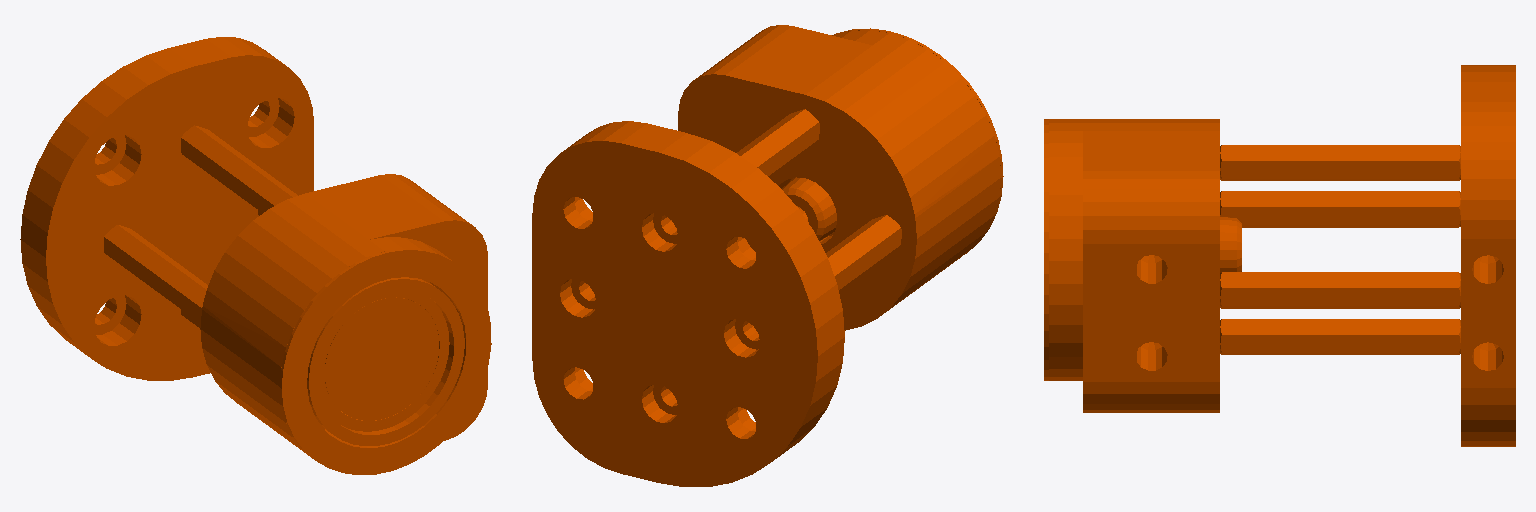
URDF robot description (panda):
<?xml version="1.0" encoding="utf-8"?>
<!-- =================================================================================== -->
<!-- |    This document was autogenerated by xacro from panda_arm.urdf.xacro           | -->
<!-- |    EDITING THIS FILE BY HAND IS NOT RECOMMENDED                                 | -->
<!-- =================================================================================== -->
<robot name="panda">
  <link name="world"/>
  <link name="base_link"/>
  <material name="light_gray">
    <color rgba="0.7 0.7 0.7 1"/>
  </material>
  <material name="red">
    <color rgba="1.0 0.1 0.1 1"/>
  </material>
  <link name="workcell_base">
    <visual>
      <geometry>
        <mesh filename="package://pick_and_place_support/meshes/workcell.STL"/>
      </geometry>
      <material name="light_gray"/>
    </visual>
    <collision name="workcell_table">
      <geometry>
        <box size="0.8 1.25 0.77153"/>
      </geometry>
      <origin xyz="0.0 0.3 -0.385765"/>
    </collision>
    <collision name="workcell_columnSW">
      <geometry>
        <box size="0.1 0.1 1.25"/>
      </geometry>
      <origin xyz="-.3302 -.2794 0.6"/>
    </collision>
    <collision name="workcell_columnsSE">
      <geometry>
        <box size="0.1 0.1 1.25"/>
      </geometry>
      <origin xyz=".3302 -.2794 0.6"/>
    </collision>
    <collision name="workcell_columnNW">
      <geometry>
        <box size="0.1 0.1 1.25"/>
      </geometry>
      <origin xyz="-.3302 0.8382 0.6"/>
      colors
    
    </collision>
    <collision name="workcell_columnNE">
      <geometry>
        <box size="0.1 0.1 1.25"/>
      </geometry>
      <origin xyz=".3302 0.8382 0.6"/>
    </collision>
    <collision name="workcell_top">
      <geometry>
        <box size="0.95 1.4 0.2"/>
      </geometry>
      <origin xyz="0.0 0.3 1.2"/>
    </collision>
  </link>
  <joint name="workcell_joint" type="fixed">
    <origin rpy="0 0 0" xyz="0.0 0.0 0.77153"/>
    <parent link="world"/>
    <child link="workcell_base"/>
  </joint>
  <link name="cabinet_1">
    <collision name="cabinet_1_back">
      <geometry>
        <box size="0.5969 0.0254 0.762"/>
      </geometry>
      <origin xyz=".2985 -.0127 -0.381"/>
    </collision>
    <collision name="cabinet_1_sideL">
      <geometry>
        <box size="0.0254 0.3048 0.762"/>
      </geometry>
      <origin xyz="0.0127 -0.1524 -0.381"/>
    </collision>
    <collision name="cabinet_1_sideR">
      <geometry>
        <box size="0.0254 0.3048 0.762"/>
      </geometry>
      <origin xyz="0.5969 -0.1524 -0.381"/>
    </collision>
    <collision name="cabinet_1_cabinet1">
      <geometry>
        <box size="0.5969 0.3048 0.0254"/>
      </geometry>
      <origin xyz=".2985 -0.1524  -0.7493"/>
    </collision>
    <collision name="cabinet_1_cabinet2">
      <geometry>
        <box size="0.5969 0.3048 0.0254"/>
      </geometry>
      <origin xyz=".2985 -0.1524  -0.508"/>
    </collision>
    <collision name="cabinet_1_cabinet3">
      <geometry>
        <box size="0.5969 0.3048 0.0254"/>
      </geometry>
      <origin xyz=".2985 -0.1524  -0.254"/>
    </collision>
    <collision name="cabinet_1_cabinet4">
      <geometry>
        <box size="0.5969 0.3048 0.0254"/>
      </geometry>
      <origin xyz=".2985 -0.1524  -0.0127"/>
    </collision>
  </link>
  <joint name="cabinet_1_joint" type="fixed">
    <origin rpy="0 0 0" xyz="-0.3048 1.016 0.771525"/>
    <parent link="workcell_base"/>
    <child link="cabinet_1"/>
  </joint>
  <!-- Create joints -->
  <joint name="workcell_base_to_base" type="fixed">
    <parent link="workcell_base"/>
    <child link="base_link"/>
    <origin rpy="0 0 1.5708" xyz="0 -0.0381 0.00953"/>
  </joint>
  <joint name="panda_joint_base_link" type="fixed">
    <parent link="base_link"/>
    <child link="panda_link0"/>
    <origin rpy="0 0 0" xyz="0 0 0"/>
  </joint>
  <link name="panda_link0">
    <visual>
      <geometry>
        <mesh filename="package://franka_description/meshes/visual/link0.dae"/>
      </geometry>
    </visual>
    <collision>
      <origin rpy="0 1.57079632679 0" xyz="-0.075 0 0.06"/>
      <geometry>
        <cylinder length="0.03" radius="0.07"/>
      </geometry>
    </collision>
    <collision>
      <origin rpy="0 0 0" xyz="-0.06 0 0.06"/>
      <geometry>
        <sphere radius="0.07"/>
      </geometry>
    </collision>
    <collision>
      <origin rpy="0 0 0" xyz="-0.09 0 0.06"/>
      <geometry>
        <sphere radius="0.07"/>
      </geometry>
    </collision>
  </link>
  <link name="panda_link1">
    <visual>
      <geometry>
        <mesh filename="package://franka_description/meshes/visual/link1.dae"/>
      </geometry>
    </visual>
    <collision>
      <origin rpy="0 0 0" xyz="0 0 -0.1915"/>
      <geometry>
        <cylinder length="0.2830" radius="0.07"/>
      </geometry>
    </collision>
    <collision>
      <origin rpy="0 0 0" xyz="0 0 -0.05"/>
      <geometry>
        <sphere radius="0.07"/>
      </geometry>
    </collision>
  </link>
  <joint name="panda_joint1" type="revolute">
    <safety_controller k_position="100.0" k_velocity="40.0" soft_lower_limit="-2.8973" soft_upper_limit="2.8973"/>
    <origin rpy="0 0 0" xyz="0 0 0.333"/>
    <parent link="panda_link0"/>
    <child link="panda_link1"/>
    <axis xyz="0 0 1"/>
    <limit effort="87" lower="-2.8973" upper="2.8973" velocity="2.1750"/>
  </joint>
  <link name="panda_link2">
    <visual>
      <geometry>
        <mesh filename="package://franka_description/meshes/visual/link2.dae"/>
      </geometry>
    </visual>
    <collision>
      <origin rpy="0 0 0" xyz="0 0 0"/>
      <geometry>
        <cylinder length="0.12" radius="0.07"/>
      </geometry>
    </collision>
    <collision>
      <origin rpy="0 0 0" xyz="0 0 -0.06"/>
      <geometry>
        <sphere radius="0.07"/>
      </geometry>
    </collision>
    <collision>
      <origin rpy="0 0 0" xyz="0 0 0.06"/>
      <geometry>
        <sphere radius="0.07"/>
      </geometry>
    </collision>
  </link>
  <joint name="panda_joint2" type="revolute">
    <safety_controller k_position="100.0" k_velocity="40.0" soft_lower_limit="-1.7628" soft_upper_limit="1.7628"/>
    <origin rpy="-1.57079632679 0 0" xyz="0 0 0"/>
    <parent link="panda_link1"/>
    <child link="panda_link2"/>
    <axis xyz="0 0 1"/>
    <limit effort="87" lower="-1.7628" upper="1.7628" velocity="2.1750"/>
  </joint>
  <link name="panda_link3">
    <visual>
      <geometry>
        <mesh filename="package://franka_description/meshes/visual/link3.dae"/>
      </geometry>
    </visual>
    <collision>
      <origin rpy="0 0 0" xyz="0 0 -0.145"/>
      <geometry>
        <cylinder length="0.15" radius="0.07"/>
      </geometry>
    </collision>
    <collision>
      <origin rpy="0 0 0" xyz="0 0 -0.22"/>
      <geometry>
        <sphere radius="0.07"/>
      </geometry>
    </collision>
    <collision>
      <origin rpy="0 0 0" xyz="0 0 -0.07"/>
      <geometry>
        <sphere radius="0.07"/>
      </geometry>
    </collision>
  </link>
  <joint name="panda_joint3" type="revolute">
    <safety_controller k_position="100.0" k_velocity="40.0" soft_lower_limit="-2.8973" soft_upper_limit="2.8973"/>
    <origin rpy="1.57079632679 0 0" xyz="0 -0.316 0"/>
    <parent link="panda_link2"/>
    <child link="panda_link3"/>
    <axis xyz="0 0 1"/>
    <limit effort="87" lower="-2.8973" upper="2.8973" velocity="2.1750"/>
  </joint>
  <link name="panda_link4">
    <visual>
      <geometry>
        <mesh filename="package://franka_description/meshes/visual/link4.dae"/>
      </geometry>
    </visual>
    <collision>
      <origin rpy="0 0 0" xyz="0 0 0"/>
      <geometry>
        <cylinder length="0.12" radius="0.07"/>
      </geometry>
    </collision>
    <collision>
      <origin rpy="0 0 0" xyz="0 0 0.06"/>
      <geometry>
        <sphere radius="0.07"/>
      </geometry>
    </collision>
    <collision>
      <origin rpy="0 0 0" xyz="0 0 -0.06"/>
      <geometry>
        <sphere radius="0.07"/>
      </geometry>
    </collision>
  </link>
  <joint name="panda_joint4" type="revolute">
    <safety_controller k_position="100.0" k_velocity="40.0" soft_lower_limit="-3.0718" soft_upper_limit="-0.0698"/>
    <origin rpy="1.57079632679 0 0" xyz="0.0825 0 0"/>
    <parent link="panda_link3"/>
    <child link="panda_link4"/>
    <axis xyz="0 0 1"/>
    <limit effort="87" lower="-3.0718" upper="-0.0698" velocity="2.1750"/>
  </joint>
  <link name="panda_link5">
    <visual>
      <geometry>
        <mesh filename="package://franka_description/meshes/visual/link5.dae"/>
      </geometry>
    </visual>
    <collision>
      <origin rpy="0 0 0" xyz="0 0 -0.26"/>
      <geometry>
        <cylinder length="0.1" radius="0.07"/>
      </geometry>
    </collision>
    <collision>
      <origin rpy="0 0 0" xyz="0 0 -0.31"/>
      <geometry>
        <sphere radius="0.07"/>
      </geometry>
    </collision>
    <collision>
      <origin rpy="0 0 0" xyz="0 0 -0.21"/>
      <geometry>
        <sphere radius="0.07"/>
      </geometry>
    </collision>
    <collision>
      <origin rpy="0 0 0" xyz="0 0.08 -0.13"/>
      <geometry>
        <cylinder length="0.14" radius="0.035"/>
      </geometry>
    </collision>
    <collision>
      <origin rpy="0 0 0" xyz="0 0.08 -0.06"/>
      <geometry>
        <sphere radius="0.035"/>
      </geometry>
    </collision>
    <collision>
      <origin rpy="0 0 0" xyz="0 0.08 -0.20"/>
      <geometry>
        <sphere radius="0.035"/>
      </geometry>
    </collision>
  </link>
  <joint name="panda_joint5" type="revolute">
    <safety_controller k_position="100.0" k_velocity="40.0" soft_lower_limit="-2.8973" soft_upper_limit="2.8973"/>
    <origin rpy="-1.57079632679 0 0" xyz="-0.0825 0.384 0"/>
    <parent link="panda_link4"/>
    <child link="panda_link5"/>
    <axis xyz="0 0 1"/>
    <limit effort="12" lower="-2.8973" upper="2.8973" velocity="2.6100"/>
  </joint>
  <link name="panda_link6">
    <visual>
      <geometry>
        <mesh filename="package://franka_description/meshes/visual/link6.dae"/>
      </geometry>
    </visual>
    <collision>
      <origin rpy="0 0 0" xyz="0 0 -0.03"/>
      <geometry>
        <cylinder length="0.08" radius="0.06"/>
      </geometry>
    </collision>
    <collision>
      <origin rpy="0 0 0" xyz="0 0 0.01"/>
      <geometry>
        <sphere radius="0.06"/>
      </geometry>
    </collision>
    <collision>
      <origin rpy="0 0 0" xyz="0 0 -0.07"/>
      <geometry>
        <sphere radius="0.06"/>
      </geometry>
    </collision>
  </link>
  <joint name="panda_joint6" type="revolute">
    <safety_controller k_position="100.0" k_velocity="40.0" soft_lower_limit="-0.0175" soft_upper_limit="3.7525"/>
    <origin rpy="1.57079632679 0 0" xyz="0 0 0"/>
    <parent link="panda_link5"/>
    <child link="panda_link6"/>
    <axis xyz="0 0 1"/>
    <limit effort="12" lower="-0.0175" upper="3.7525" velocity="2.6100"/>
  </joint>
  <link name="panda_link7">
    <visual>
      <geometry>
        <mesh filename="package://franka_description/meshes/visual/link7.dae"/>
      </geometry>
    </visual>
    <collision>
      <origin rpy="0 0 0" xyz="0 0 0.01"/>
      <geometry>
        <cylinder length="0.14" radius="0.05"/>
      </geometry>
    </collision>
    <collision>
      <origin rpy="0 0 0" xyz="0 0 0.08"/>
      <geometry>
        <sphere radius="0.05"/>
      </geometry>
    </collision>
    <collision>
      <origin rpy="0 0 0" xyz="0 0 -0.06"/>
      <geometry>
        <sphere radius="0.05"/>
      </geometry>
    </collision>
  </link>
  <joint name="panda_joint7" type="revolute">
    <safety_controller k_position="100.0" k_velocity="40.0" soft_lower_limit="-2.8973" soft_upper_limit="2.8973"/>
    <origin rpy="1.57079632679 0 0" xyz="0.088 0 0"/>
    <parent link="panda_link6"/>
    <child link="panda_link7"/>
    <axis xyz="0 0 1"/>
    <limit effort="12" lower="-2.8973" upper="2.8973" velocity="2.6100"/>
  </joint>
  <link name="panda_link8">
    <collision>
      <origin rpy="3.14159265359 1.57079632679 1.57079632679" xyz="0.0424 0.0424 -0.0250"/>
      <geometry>
        <cylinder length="0.01" radius="0.04"/>
      </geometry>
    </collision>
    <collision>
      <origin rpy="0 0 0" xyz="0.0424 0.0424 -0.02"/>
      <geometry>
        <sphere radius="0.04"/>
      </geometry>
    </collision>
    <collision>
      <origin rpy="0 0 0" xyz="0.0424 0.0424 -0.03"/>
      <geometry>
        <sphere radius="0.04"/>
      </geometry>
    </collision>
  </link>
  <joint name="panda_joint8" type="fixed">
    <origin rpy="0 0 0" xyz="0 0 0.107"/>
    <parent link="panda_link7"/>
    <child link="panda_link8"/>
  </joint>
  <joint name="panda_suction_ee_joint" type="fixed">
    <parent link="panda_link8"/>
    <child link="panda_suction_ee"/>
    <origin rpy="0 0 0" xyz="0 0 0"/>
  </joint>
  <link name="panda_suction_ee">
    <visual>
      <origin rpy="1.57079632679 0 0" xyz="-0.03429 0.03429 0"/>
      <geometry>
        <mesh filename="package://pick_and_place_support/include/robot_description/suction_ee.stl"/>
      </geometry>
    </visual>
    <collision>
      <origin rpy="0 0 0" xyz="0 0 0.045577"/>
      <geometry>
        <cylinder length="0.091154" radius="0.03429"/>
      </geometry>
    </collision>
  </link>
  <!-- Define the hand_tcp frame. This is a virtual  -->
  <link name="panda_ee_tcp"/>
  <joint name="panda_hand_tcp_joint" type="fixed">
    <origin rpy="0 0 0" xyz="0 0 0.091154"/>
    <parent link="panda_suction_ee"/>
    <child link="panda_ee_tcp"/>
  </joint>
  <joint name="case_cam_joint" type="fixed">
    <parent link="panda_link0"/>
    <child link="case_cam"/>
    <origin rpy="0.375 0 0" xyz="0.1637786 -0.5589 0.736"/>
  </joint>
  <link name="case_cam">
    <visual>
      <origin rpy="0 3.14159265359 0" xyz="0 0 0"/>
      <geometry>
        <mesh filename="package://pick_and_place_support/include/robot_description/oak-d-camera.stl"/>
      </geometry>
    </visual>
    <collision>
      <origin rpy="0 0 0" xyz="0 0 0"/>
      <geometry>
        <sphere radius="0.03429"/>
      </geometry>
    </collision>
  </link>
  <joint name="fine_shelf_cam_joint" type="fixed">
    <parent link="panda_link0"/>
    <child link="fine_shelf_cam"/>
    <origin rpy="1.57079632679 0 0" xyz=".2189801 -0.04 0.127"/>
  </joint>
  <link name="fine_shelf_cam">
    <visual>
      <origin rpy="0 3.14159265359 0" xyz="0 0 0"/>
      <geometry>
        <mesh filename="package://pick_and_place_support/include/robot_description/oak-d-camera.stl"/>
      </geometry>
    </visual>
    <collision>
      <origin rpy="0 0 0" xyz="0 0 0"/>
      <geometry>
        <sphere radius="0.03429"/>
      </geometry>
    </collision>
  </link>
  <!--<xacro:include filename="$(find pick_and_place_support)/config/panda_arm.ros2_control.xacro"/>
  <xacro:panda_arm_ros2_control ns="$(arg arm_id)" robot_ip="$(arg robot_ip)" use_fake_hardware="$(arg use_fake_hardware)" fake_sensor_commands="$(arg fake_sensor_commands)"/> -->
</robot>

--- Facts derived from the render (not from the file) ---
Views: 3 orthographic renders of the robot side by side, from view 1: azimuth 30°, elevation 25°; view 2: azimuth 150°, elevation 25°; view 3: azimuth 270°, elevation 25°.
Robot: panda — 17 links, 16 joints (7 revolute, 9 fixed); root link world; default pose: all joints at 0 but 1 set to mid-range because 0 is outside their limits (panda_joint4 = -1.57).
Links seen in each view (by area): view 1: panda_suction_ee; view 2: panda_suction_ee; view 3: panda_suction_ee.
Boxes of the visible links, x1,y1,x2,y2 form: panda_suction_ee: (20,37,491,474); panda_suction_ee: (532,25,1003,486); panda_suction_ee: (1044,65,1515,446).
Bounding box of the posed robot: 0.062 × 0.0872 × 0.0686 m (x, y, z).
Meshes: 11 distinct files referenced, 1 mesh visuals loaded (1 binary STL); not drawn: 11 (reference not matched to a file when rendering).